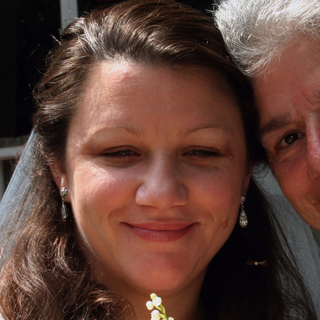eye: (171, 141, 226, 172), (90, 140, 150, 168), (265, 125, 309, 156)
